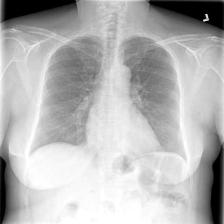normal: (28, 32, 190, 169)
